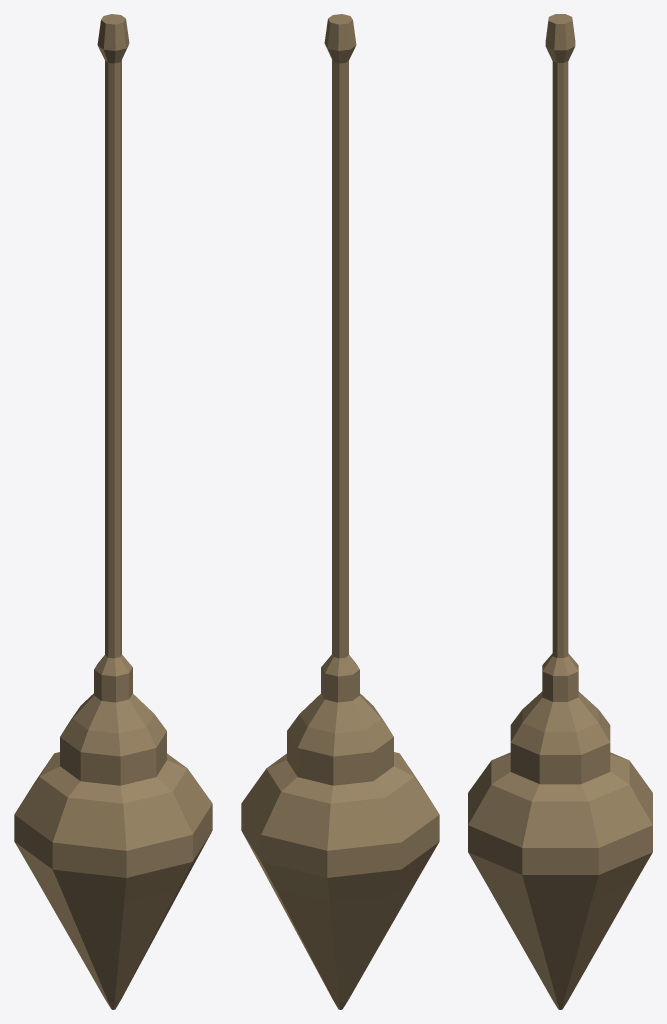
The model's file is PlumbBob.fbx.
3 views of the same model, side by side, from view 1: azimuth 30°, elevation 25°; view 2: azimuth 150°, elevation 25°; view 3: azimuth 270°, elevation 25° (orthographic).
Parts seen in each view (by area): view 1: PlumbBob; view 2: PlumbBob; view 3: PlumbBob.
Boxes of the visible parts, x1,y1,x2,y2 form: PlumbBob: (14, 14, 212, 1009); PlumbBob: (241, 14, 439, 1009); PlumbBob: (468, 14, 652, 1009).
Bounding box in the file's own units: 16.08 × 95 × 16.08.
